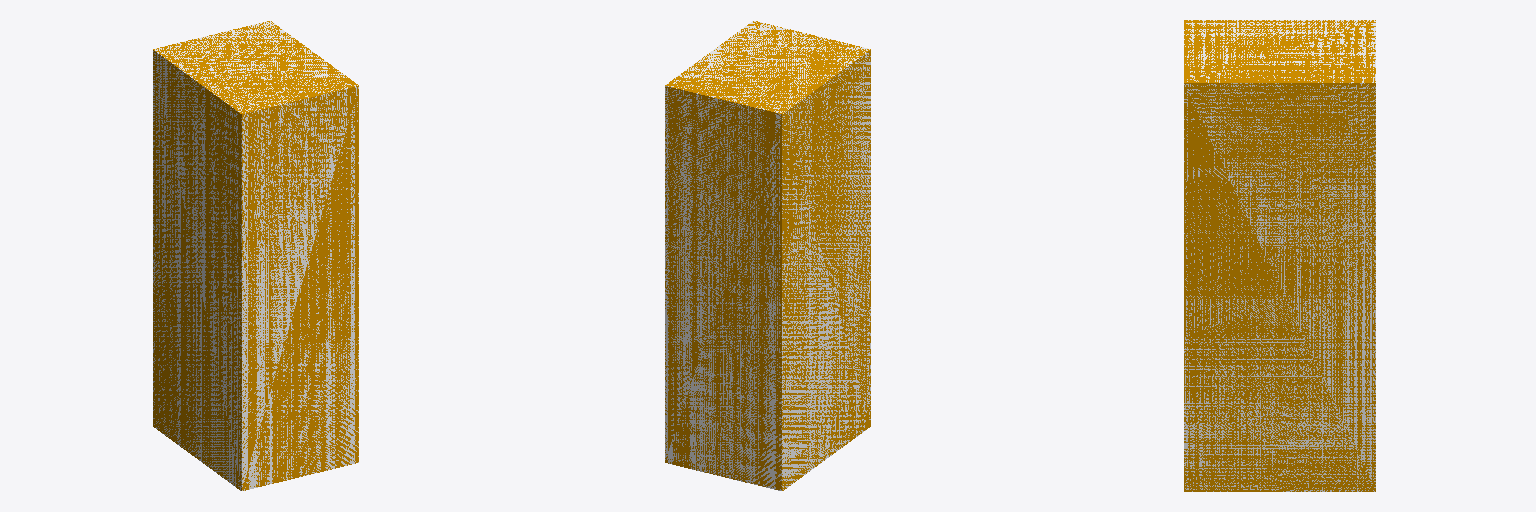
The robot description file, URDF, robot "my_object":
<?xml version="1.0" ?> 
<robot name="my_object" static="true">
  <link name="base_link">
  <inertial>
    <mass value="0.523" />
    <origin xyz="0 0 0.0" />
    <inertia ixx="1.0" ixy="0.0" ixz="0.0" iyy="1.0" iyz="0.0" izz="1.0"/>
  </inertial>
  <visual>
   <origin xyz="0 0 0.0" rpy="0 0 0" />
   <geometry>
     <mesh filename="package://cob_gazebo_objects/Media/models/salt_alternative.dae"/>
   </geometry>
  </visual>
  <collision>
   <origin xyz="0 0.00 0" rpy="0 0 0" />
   <geometry>
     <box size="0.046 0.061 0.142" />
   </geometry>
  </collision>     
  </link>

</robot>

--- Render facts (derived) ---
The picture shows the robot from 3 angles, left to right: view 1: azimuth 30°, elevation 25°; view 2: azimuth 150°, elevation 25°; view 3: azimuth 270°, elevation 25°; orthographic projection.
Robot: my_object — 1 links, 0 joints (none); root link base_link; default pose: all joints at 0.
Links seen in each view (by area): view 1: base_link; view 2: base_link; view 3: base_link.
Link boxes in pixels (x1,y1,x2,y2): base_link: (153, 21, 358, 490); base_link: (665, 21, 870, 490); base_link: (1184, 20, 1375, 491).
Size in the robot's own frame: 0.0012 by 0.0015 by 0.0036 metres.
1 mesh visuals loaded from 1 distinct referenced files (1 Collada DAE).